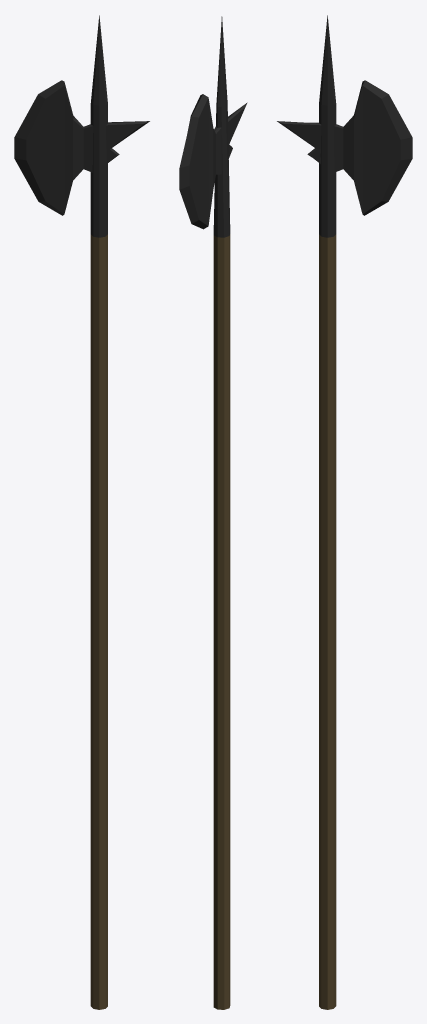
File: Halberd.fbx
3 views of the same model, side by side, from view 1: azimuth 90°, elevation 25°; view 2: azimuth 150°, elevation 25°; view 3: azimuth 270°, elevation 25° (orthographic).
Visible parts, largest first — view 1: Halberd; view 2: Halberd; view 3: Halberd.
Part boxes in pixels (<box>): Halberd: <box>14,15,149,1009</box>; Halberd: <box>179,16,247,1009</box>; Halberd: <box>277,15,412,1009</box>.
Bounding box in the file's own units: 3.53 × 223 × 27.75.
